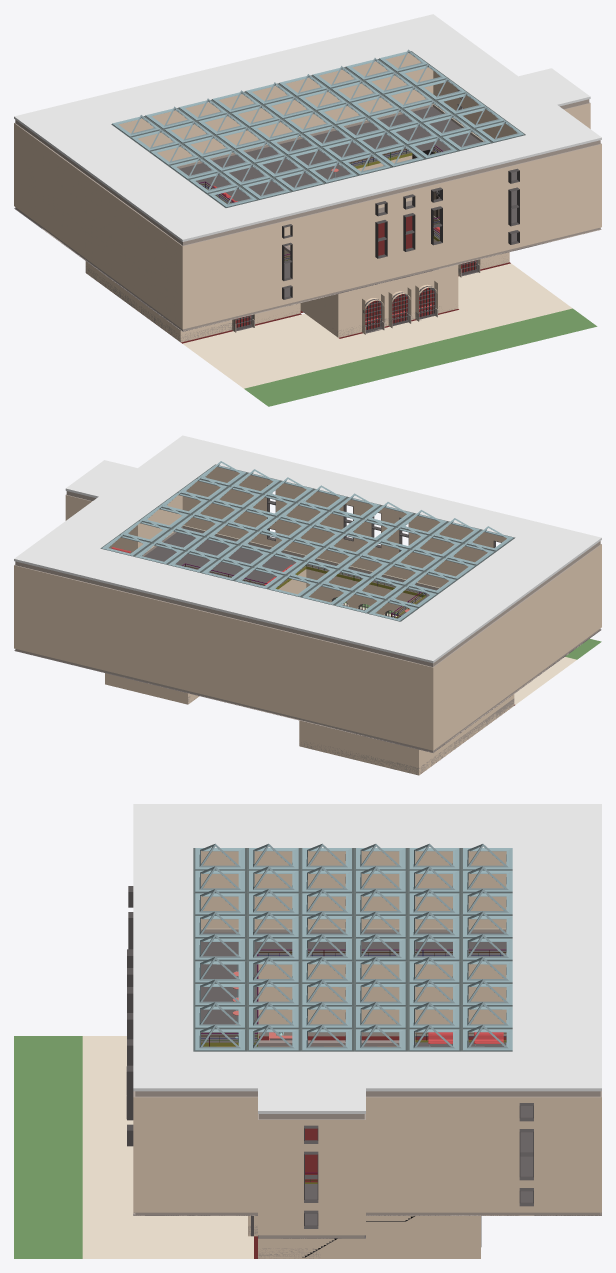
The model's file is Room_Expo.glb.
The picture shows the model from 3 angles, top to bottom: view 1: azimuth 30°, elevation 25°; view 2: azimuth 150°, elevation 25°; view 3: azimuth 270°, elevation 25°; orthographic projection. The views are drawn at different scales.
Parts seen in each view (by area): view 1: Murs, TT_Plafond, Sol_rdc, TT_Puit de lumière, Fenetres, vitres.001, Plinthe rdc, Fence; view 2: Murs, TT_Plafond, TT_Puit de lumière, Plinthe rdc, Sol_rdc, Fence, Fenetres; view 3: Murs, TT_Plafond, TT_Puit de lumière, Sol_rdc, Fenetres, Fence, Fenetres.001, Plinthe rdc, Banc.002.
Part boxes in pixels (x1,y1,x2,y2): Murs: (14, 53, 601, 342); TT_Plafond: (14, 14, 601, 241); Sol_rdc: (181, 216, 597, 406); TT_Puit de lumière: (111, 49, 525, 207); Fenetres: (282, 168, 519, 299); vitres.001: (233, 260, 477, 333); Plinthe rdc: (85, 200, 508, 341); Fence: (199, 145, 442, 260); Murs: (14, 467, 601, 775); TT_Plafond: (14, 435, 601, 663); TT_Puit de lumière: (100, 461, 515, 621); Plinthe rdc: (186, 696, 514, 774); Sol_rdc: (334, 598, 601, 705); Fence: (182, 563, 426, 618); Fenetres: (267, 485, 501, 551); Murs: (133, 851, 601, 1258); TT_Plafond: (133, 804, 601, 1113); TT_Puit de lumière: (193, 843, 512, 1051); Sol_rdc: (14, 1036, 506, 1258); Fenetres: (126, 886, 133, 1146); Fence: (201, 949, 506, 1183); Fenetres.001: (304, 1103, 533, 1228); Plinthe rdc: (248, 1032, 506, 1258); Banc.002: (428, 1032, 503, 1046).
Size of the model in its own units: 53.22 by 17.7 by 42.72.
Materials: 4 (4 with a texture image).
